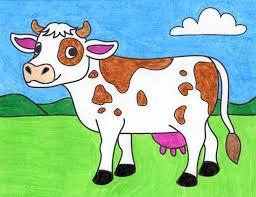cow: (11, 23, 242, 186)
